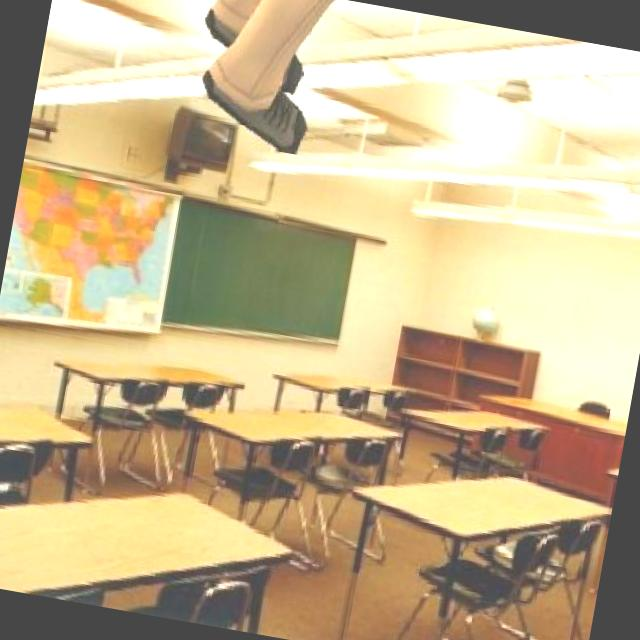Person: (180, 0, 345, 164)
